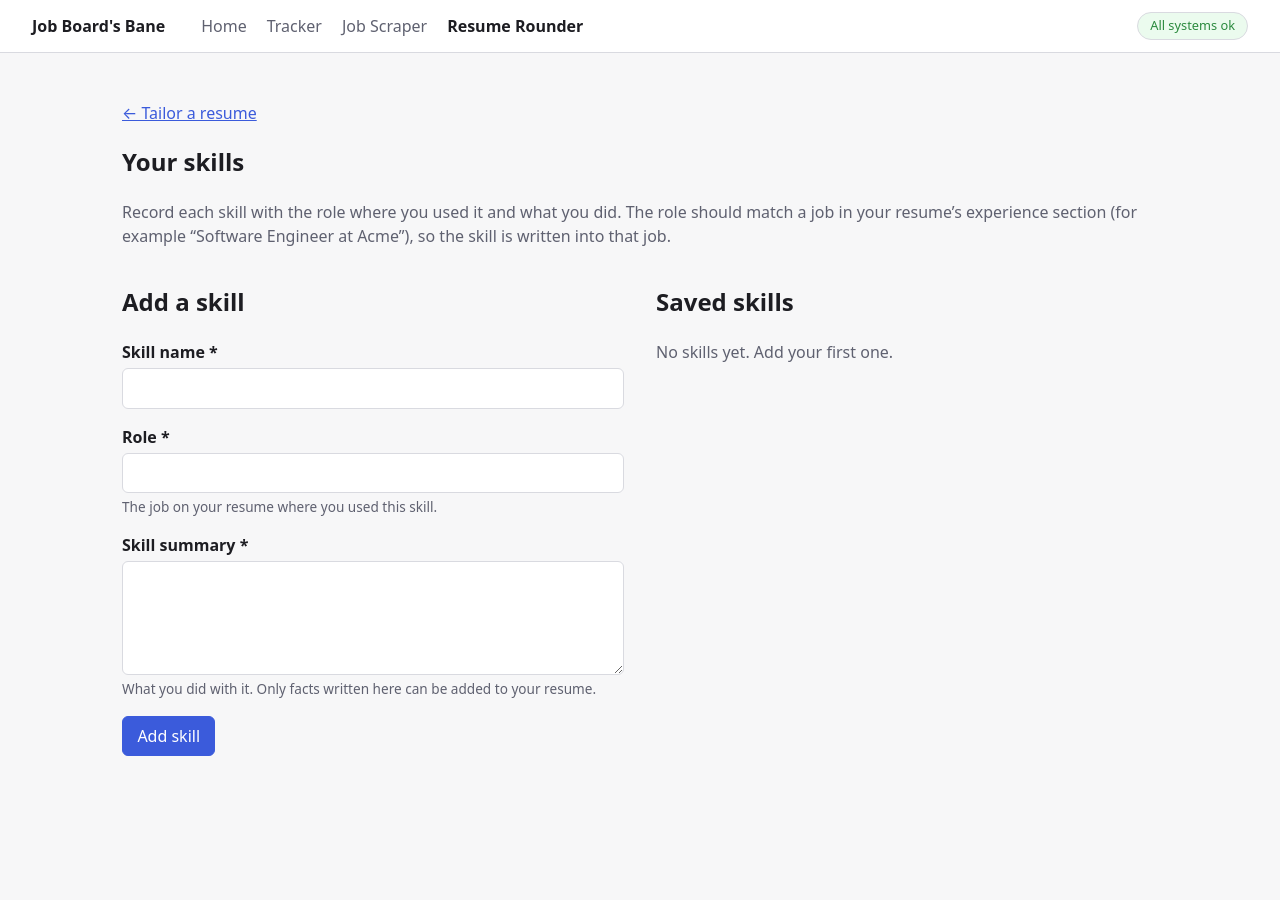
Test: SkillsPage › adds a skill and suggests existing roles
Check: the text "No skills yet. Add your first one." is shown, box [656,341,893,363]
Type "PostgreSQL" into the field labelled "Skill name *".
click(373, 388); type("PostgreSQL")  # box [122,368,624,409]
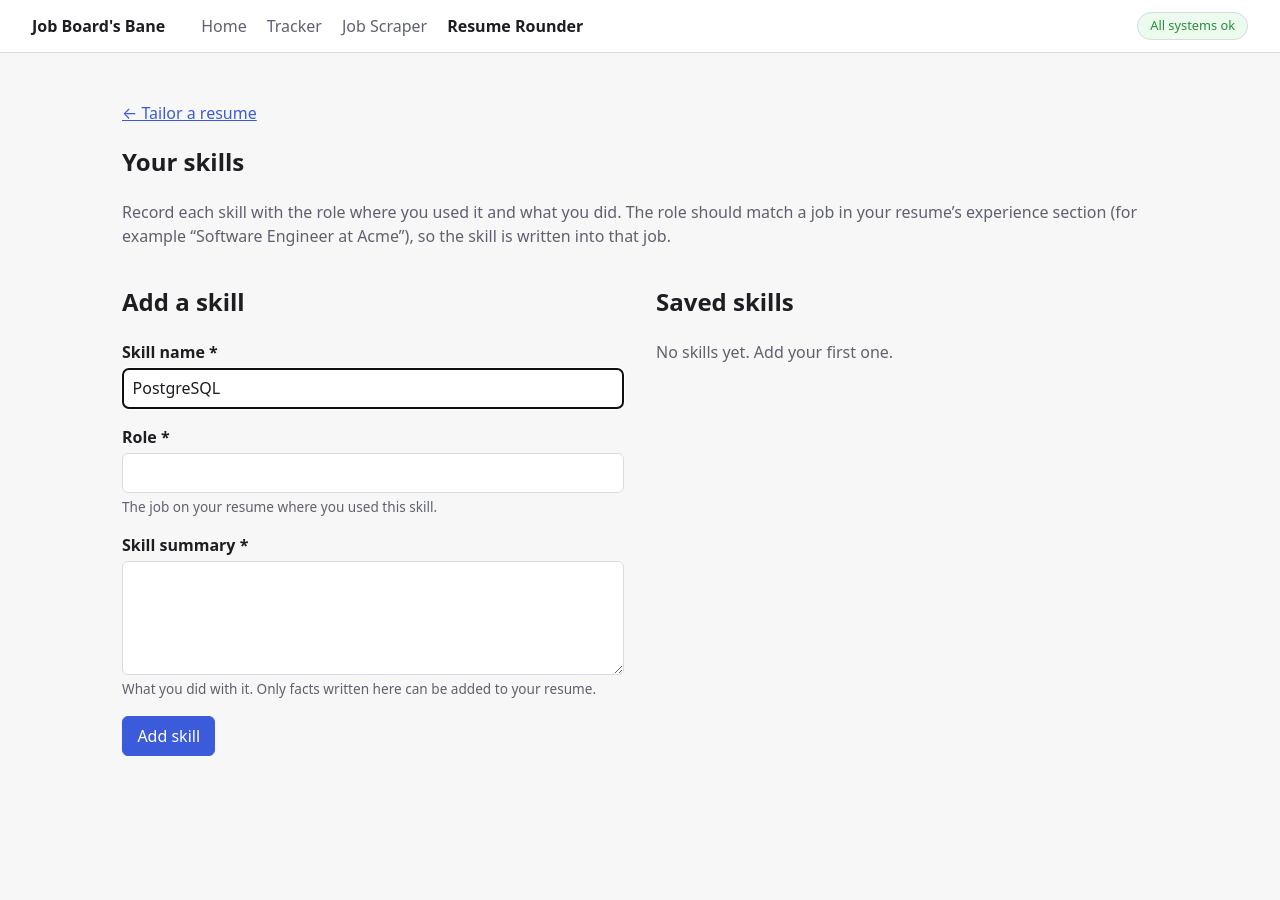
Type "Software Engineer at Acme" into the field labelled "Role *".
click(373, 473); type("Software Engineer at Acme")  # box [122,453,624,493]
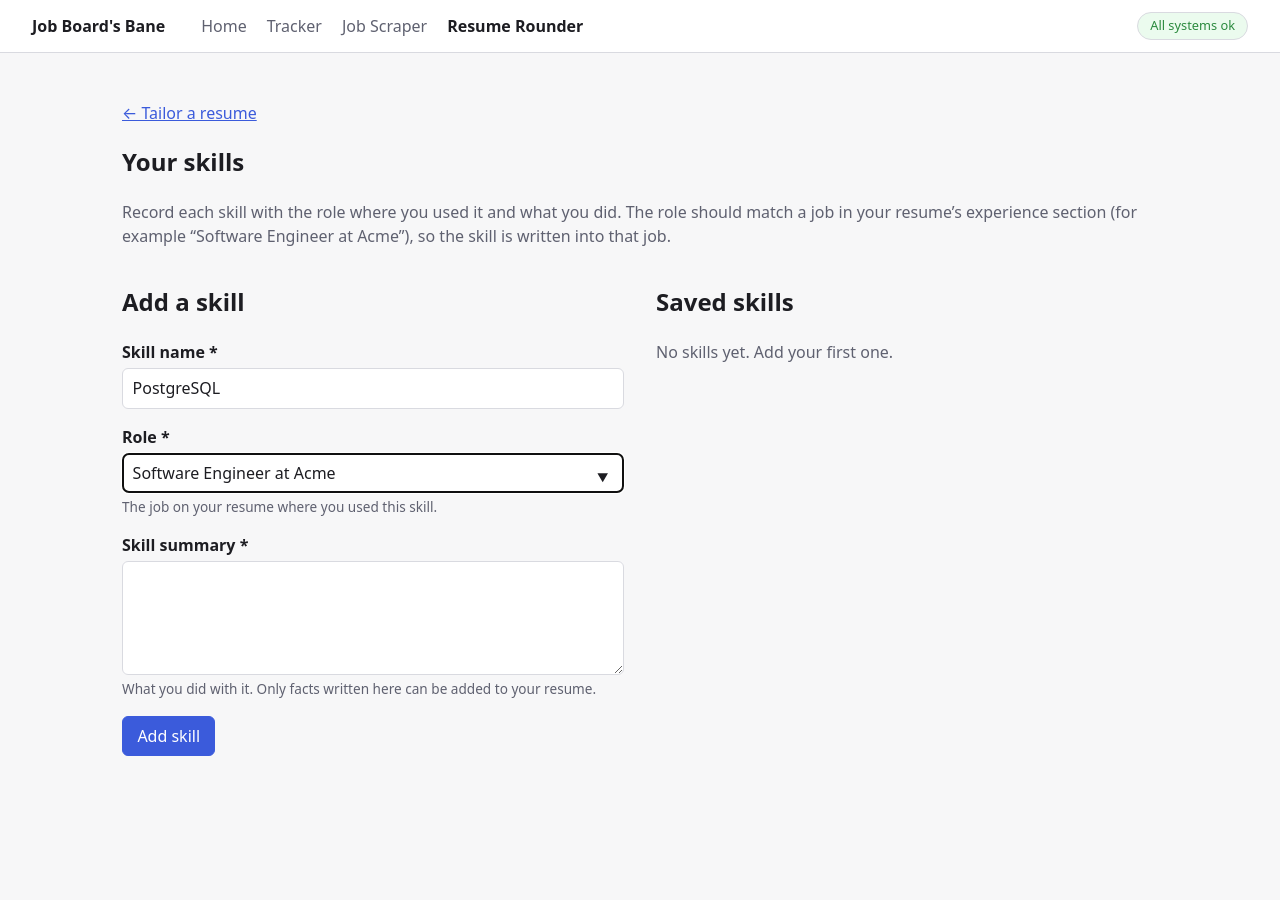
Type "Designed the reporting schema." into the text box labelled "Skill summary *".
click(373, 618); type("Designed the reporting schema.")  # box [122,561,624,675]
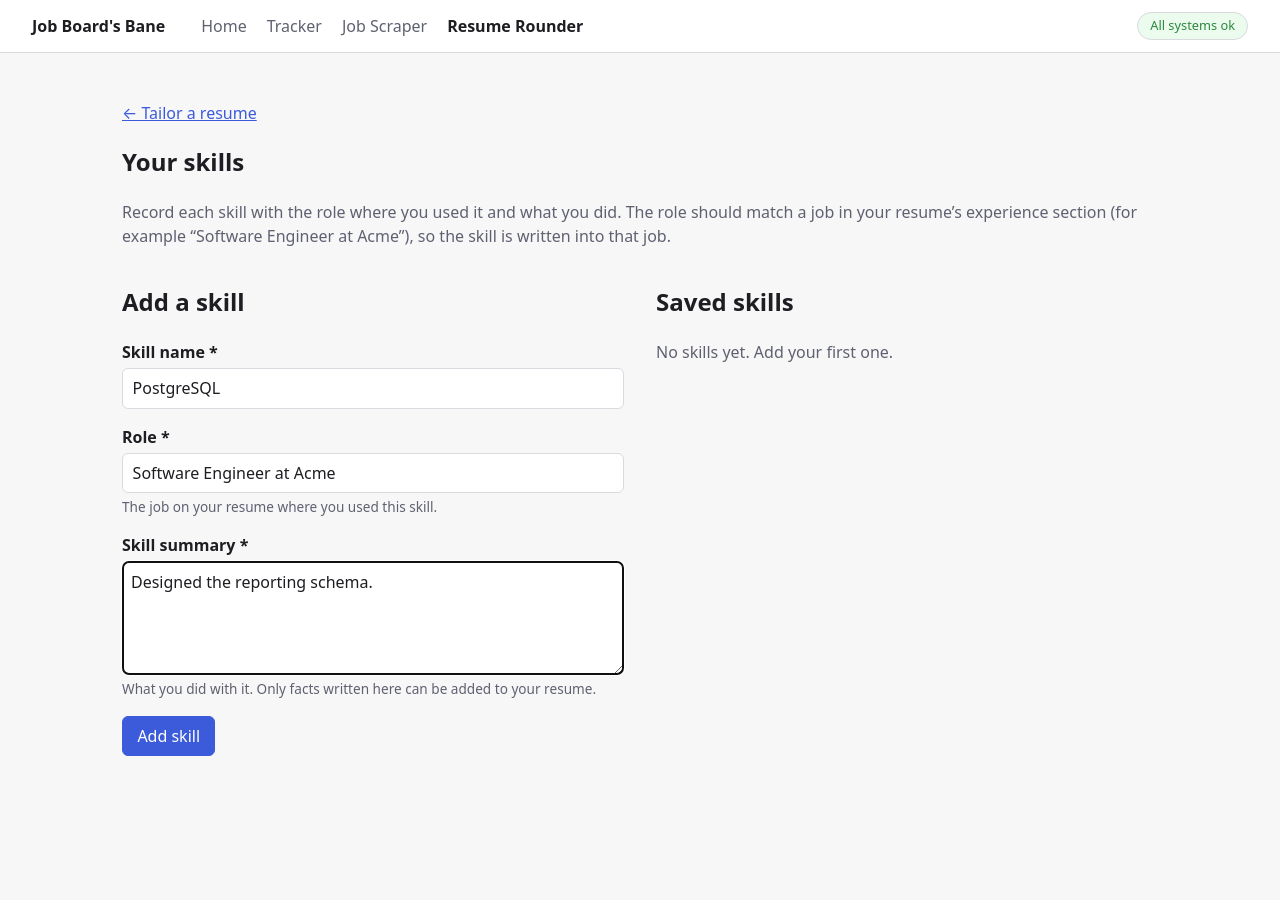
Click the button "Add skill".
click(169, 736)  # box [122,716,215,756]
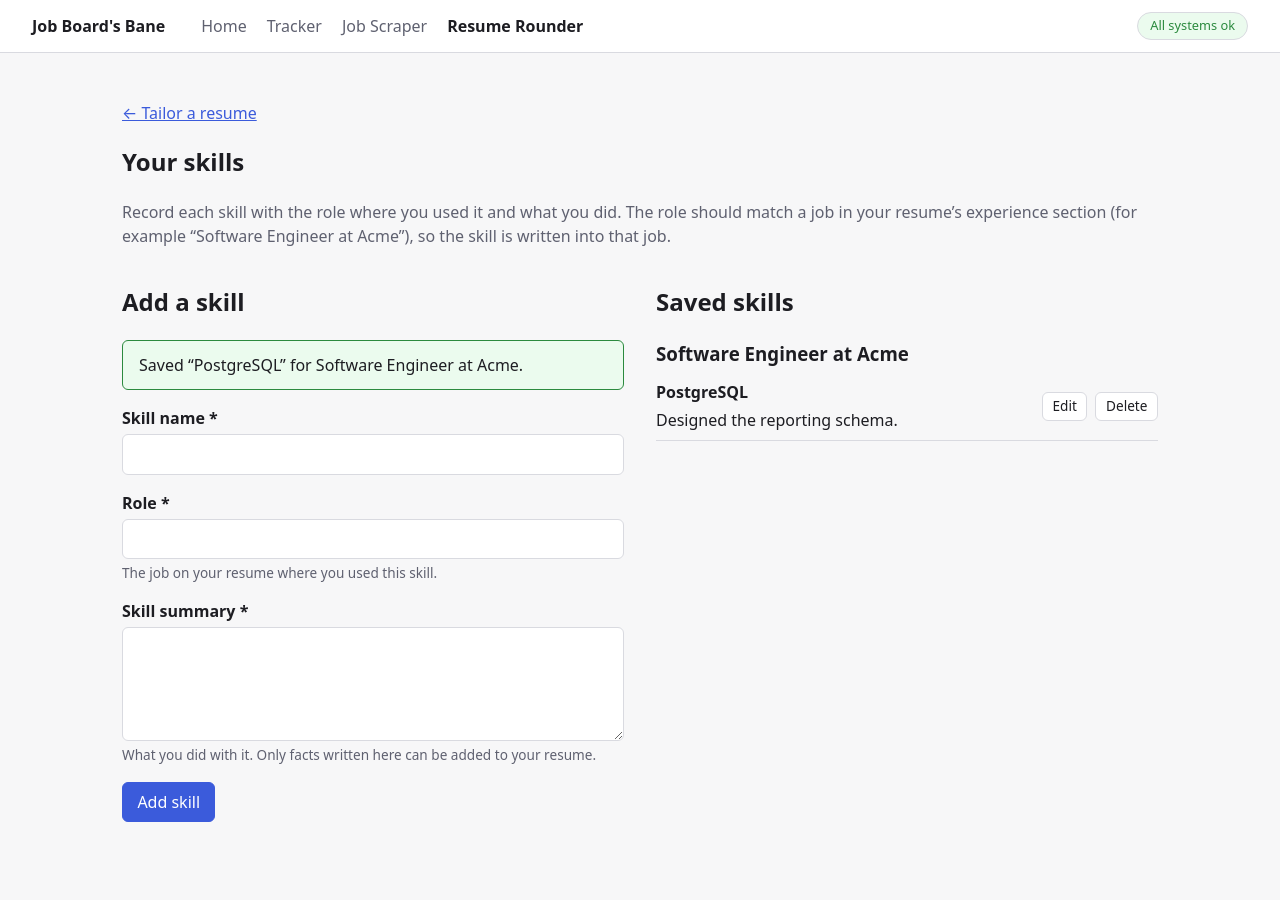
Check: the message reads "Saved “PostgreSQL” for Software Engineer at Acme.", box [139,354,523,376]
Check: the element "Software Engineer at Acme" is shown, box [656,340,1158,441]
